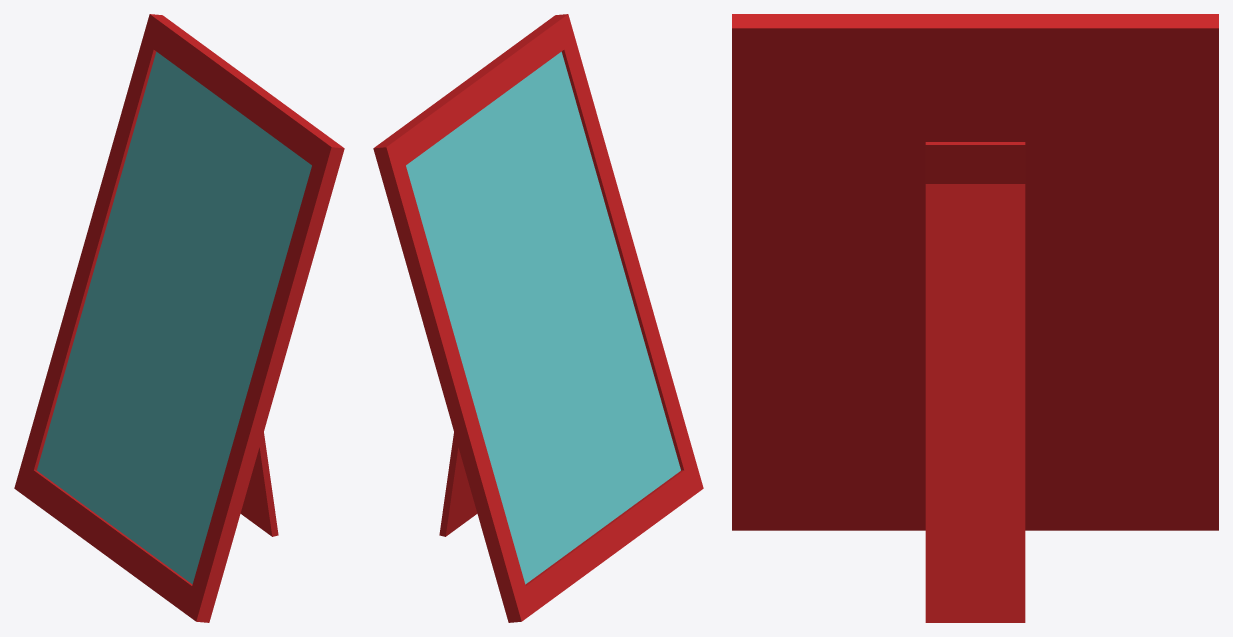
The model's file is MOD_PRO_Photo_frame_01.fbx.
The picture shows the model from 3 angles, left to right: view 1: azimuth 30°, elevation 25°; view 2: azimuth 150°, elevation 25°; view 3: azimuth 270°, elevation 25°; orthographic projection. The views are drawn at different scales.
Visible parts, largest first — view 1: HSHP_MOD_Photo_frame_01; view 2: HSHP_MOD_Photo_frame_01; view 3: HSHP_MOD_Photo_frame_01.
Boxes of the visible parts, box(x1,y1,x2,y2) form: HSHP_MOD_Photo_frame_01: box(14, 14, 344, 622); HSHP_MOD_Photo_frame_01: box(373, 14, 703, 622); HSHP_MOD_Photo_frame_01: box(732, 14, 1218, 622).
Bounding box in the file's own units: 0.0772 × 0.2125 × 0.1572.
